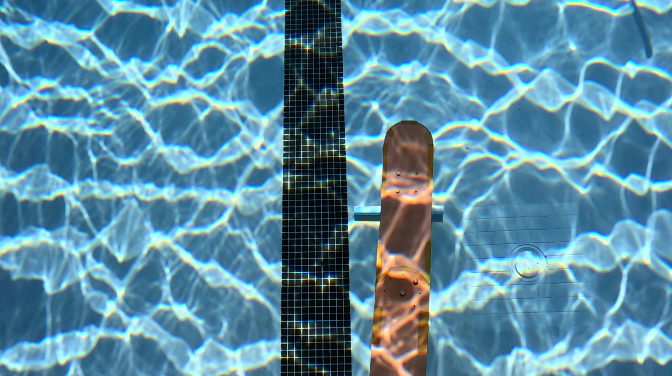pathmarker: (370, 119, 432, 375)
